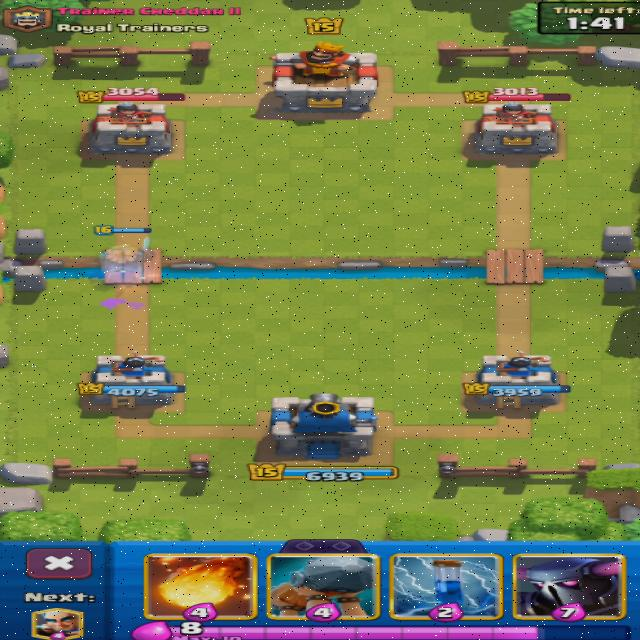Enemy-KingTower: (273, 42, 377, 114)
Enemy-PrincessTower: (475, 101, 556, 155), (89, 102, 171, 155)
Player-KingTower-Activated: (269, 393, 377, 459)
Player-PrincessTower: (78, 352, 185, 409), (475, 352, 569, 407)
Player-RoyalGhost: (102, 238, 152, 271)
